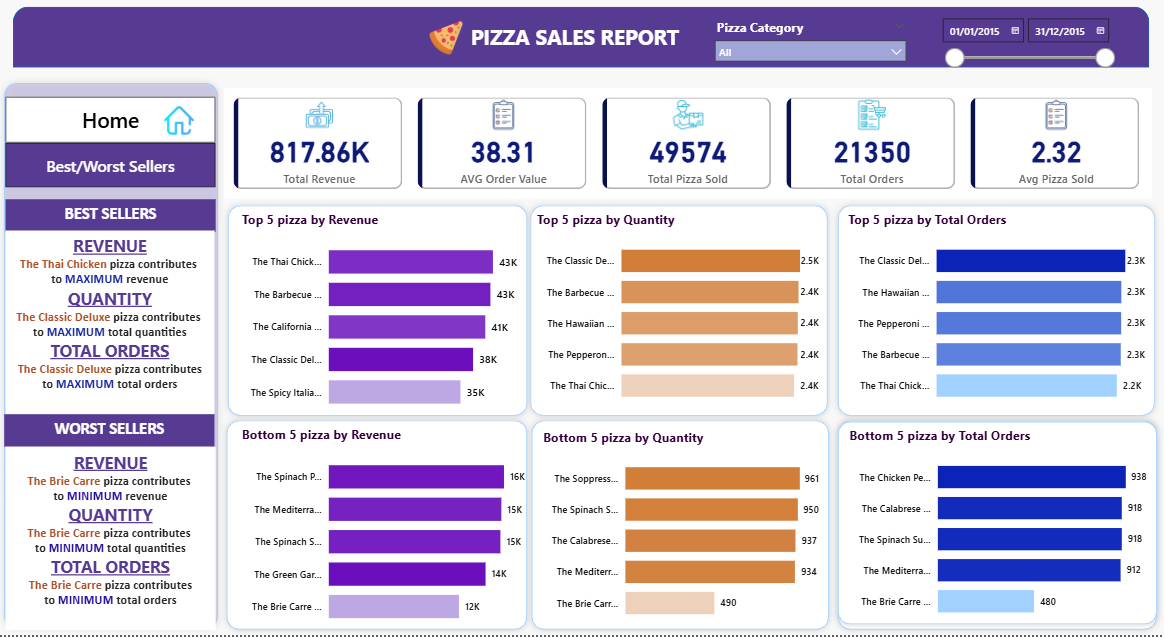

The page's visual inventory and layout, read from the dashboard file:
{"tool":"powerbi","page":{"name":"Best/Worst Sellers","canvas":[1500,820],"ordinal":1},"visuals":[{"type":"shape","box":[0,101.3,291.1,718.8],"z":0},{"type":"cardVisual","fields":{"Data":["pizza_sales.Total Revenue","pizza_sales.AVG Order Value","pizza_sales.Total Pizza Sold","pizza_sales.Total Orders","pizza_sales.Avg Pizza Sold"]},"box":[290.7,116,1193.4,142.5],"z":1000},{"type":"shape","box":[19.6,11.2,1461.7,78.3],"z":2000},{"type":"textbox","box":[603.7,27.9,293.5,47.5],"z":3000},{"type":"image","box":[550.6,29.3,53.1,44.7],"z":4000},{"type":"shape","box":[287.9,258.5,401.1,286.5],"z":5000},{"type":"textbox","box":[9.6,258.9,270.2,41.8],"z":15000},{"type":"textbox","box":[9.6,299.1,268.5,236.4],"z":16000},{"type":"textbox","box":[8,535.5,270.2,41.8],"z":17000},{"type":"textbox","box":[9.6,577.3,270.2,236.4],"z":18000},{"type":"slicer","fields":{"Values":["pizza_sales.pizza_category"]},"box":[912.5,21,266.9,68.5],"z":19000},{"type":"slicer","fields":{"Values":["pizza_sales.order_date"]},"box":[1203.2,15.4,243.2,81.1],"z":20000},{"type":"shape","box":[677.7,258.5,398.3,286.5],"z":20001},{"type":"shape","box":[1073.2,258.5,423.4,286.5],"z":20002},{"type":"shape","box":[286.5,535.2,402.5,285.1],"z":20003},{"type":"shape","box":[1073.2,535.2,426.2,285.1],"z":20005},{"type":"barChart","title":"Top 5 pizza by Revenue","fields":{"Y":["pizza_sales.Total Revenue"],"Category":["pizza_sales.pizza_name"]},"box":[308.7,273.4,387.5,271.8],"z":20006},{"type":"barChart","title":"Bottom 5 pizza by Revenue","fields":{"Y":["pizza_sales.Total Revenue"],"Category":["pizza_sales.pizza_name"]},"box":[308.8,549.2,387.1,271.1],"z":20007},{"type":"shape","box":[679.1,535.2,398.3,285.1],"z":20008},{"type":"barChart","title":"Top 5 pizza by Quantity","fields":{"Category":["pizza_sales.pizza_name"],"Y":["pizza_sales.Total Pizza Sold"]},"box":[688.3,273.4,373.1,262.1],"z":20009},{"type":"barChart","title":"Bottom 5 pizza by Quantity","fields":{"Category":["pizza_sales.pizza_name"],"Y":["pizza_sales.Total Pizza Sold"]},"box":[696.3,553.2,365,262.1],"z":20010},{"type":"shape","box":[1073.2,536.6,426.2,276.7],"z":20011},{"type":"barChart","title":"Top 5 pizza by Total Orders","fields":{"Category":["pizza_sales.pizza_name"],"Y":["pizza_sales.Total Orders"]},"box":[1088.7,273.4,392.4,262.1],"z":20012},{"type":"barChart","title":"Bottom 5 pizza by Total Orders","fields":{"Category":["pizza_sales.pizza_name"],"Y":["pizza_sales.Total Orders"]},"box":[1090,552,392.7,261.3],"z":20013},{"type":"pageNavigator","box":[9.6,127,270.2,59.5],"z":20014},{"type":"image","box":[178.5,138.3,109.3,38.6],"z":20016},{"type":"pageNavigator","box":[9.6,186.5,270.2,57.9],"z":20017}]}

Visuals, with their boxes in screenshot pixels (x1, y1, x2, y2), scaled from the page's 1500x820 canvas onto the 1164x638 screenshot:
shape: bbox=[0, 79, 226, 637]
cardVisual - pizza_sales.Total Revenue x pizza_sales.AVG Order Value: bbox=[226, 90, 1152, 201]
shape: bbox=[15, 9, 1149, 70]
textbox: bbox=[468, 22, 696, 59]
image: bbox=[427, 23, 468, 58]
shape: bbox=[223, 201, 535, 424]
textbox: bbox=[7, 201, 217, 234]
textbox: bbox=[7, 233, 216, 417]
textbox: bbox=[6, 417, 216, 449]
textbox: bbox=[7, 449, 217, 633]
slicer - pizza_sales.pizza_category: bbox=[708, 16, 915, 70]
slicer - pizza_sales.order_date: bbox=[934, 12, 1122, 75]
shape: bbox=[526, 201, 835, 424]
shape: bbox=[833, 201, 1161, 424]
shape: bbox=[222, 416, 535, 637]
shape: bbox=[833, 416, 1163, 637]
"Top 5 pizza by Revenue" barChart: bbox=[240, 213, 540, 424]
"Bottom 5 pizza by Revenue" barChart: bbox=[240, 427, 540, 637]
shape: bbox=[527, 416, 836, 637]
"Top 5 pizza by Quantity" barChart: bbox=[534, 213, 824, 417]
"Bottom 5 pizza by Quantity" barChart: bbox=[540, 430, 824, 634]
shape: bbox=[833, 418, 1163, 633]
"Top 5 pizza by Total Orders" barChart: bbox=[845, 213, 1149, 417]
"Bottom 5 pizza by Total Orders" barChart: bbox=[846, 429, 1151, 633]
pageNavigator: bbox=[7, 99, 217, 145]
image: bbox=[139, 108, 223, 138]
pageNavigator: bbox=[7, 145, 217, 190]
